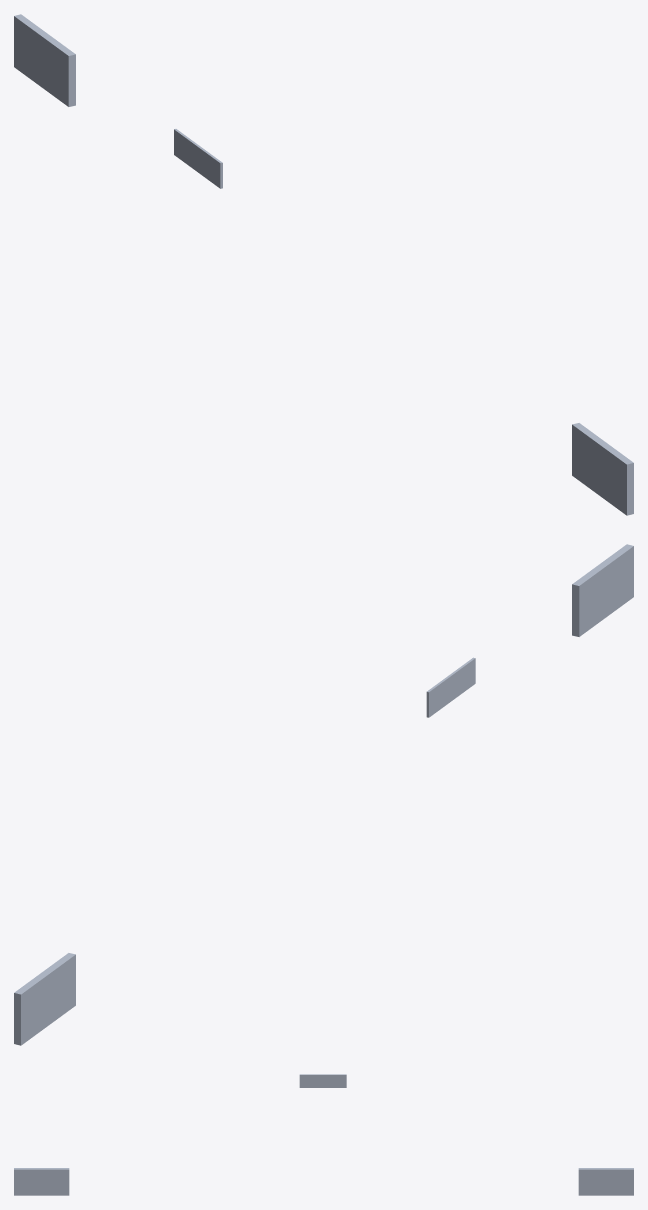
File: Mirrors.glb
3 renders of one model, top to bottom at view 1: azimuth 30°, elevation 25°; view 2: azimuth 150°, elevation 25°; view 3: azimuth 270°, elevation 25°, orthographic. The views are drawn at different scales.
Parts seen in each view (by area): view 1: RearMirror.003; view 2: RearMirror.003; view 3: RearMirror.003.
Boxes of the visible parts, x1,y1,x2,y2 form: RearMirror.003: (14, 14, 633, 515); RearMirror.003: (14, 544, 633, 1045); RearMirror.003: (14, 1074, 633, 1195).
Size of the model in its own units: 0.0129 by 0.0165 by 0.1041.
Materials: 1 (1 with a texture image).
